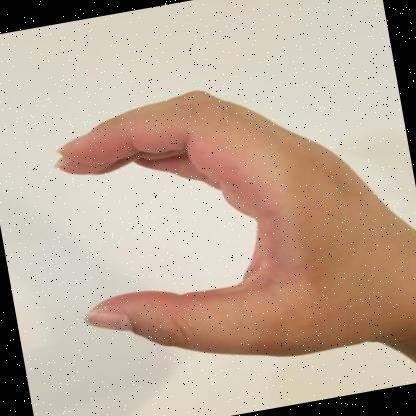C: (54, 90, 416, 356)
